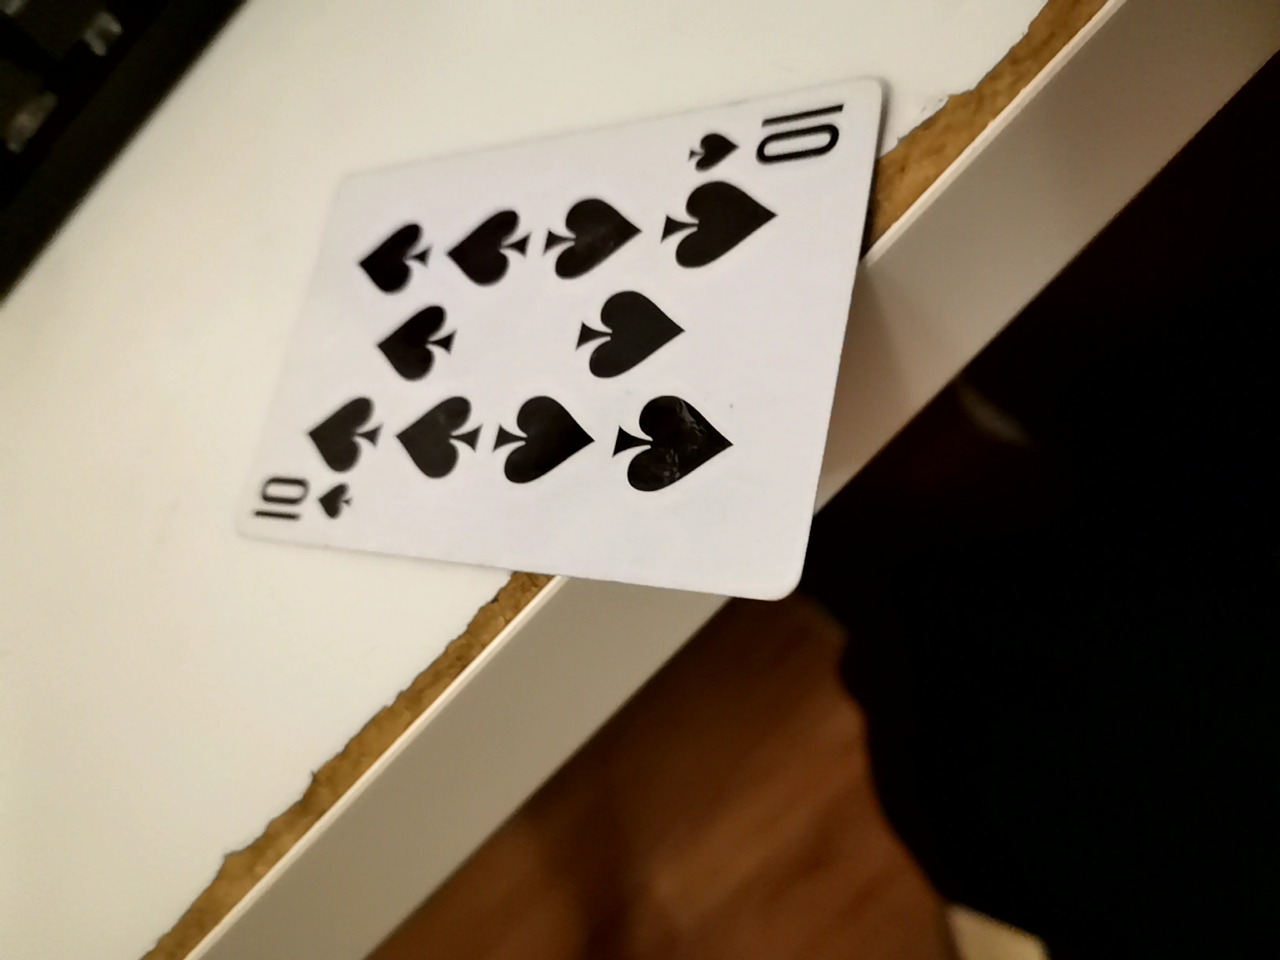ht 10: (239, 68, 871, 614)
